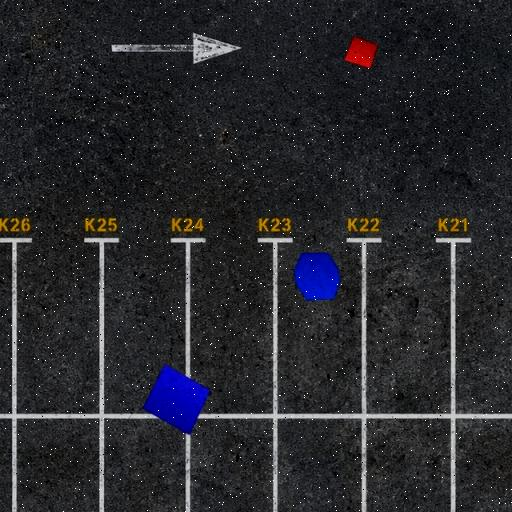BLUE_SQUARE: (142, 363, 211, 436)
RED_SQUARE: (344, 35, 378, 70)
